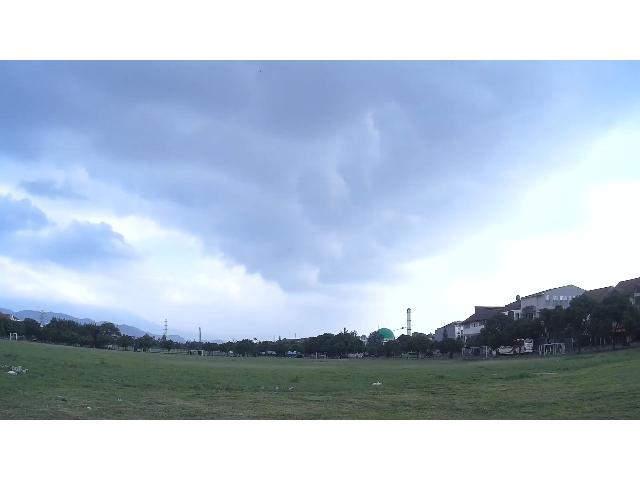Anti-Drone: (384, 324, 424, 336)
